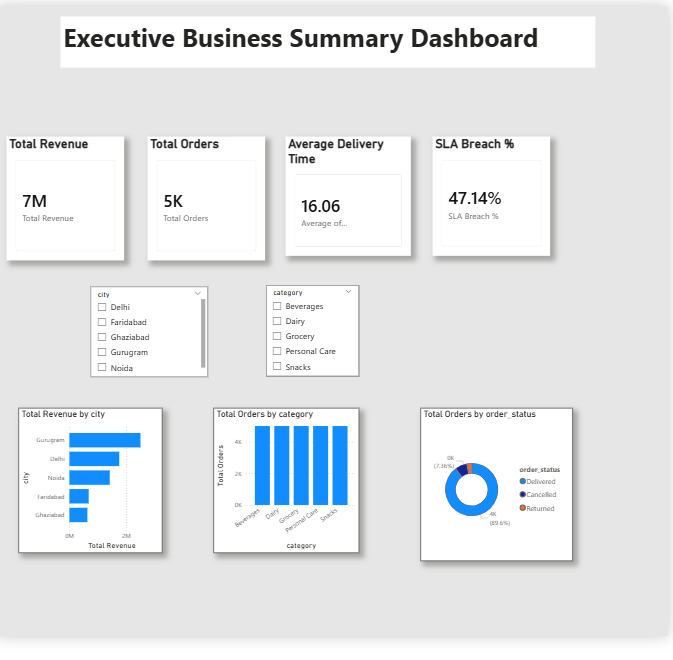

Layout of this report page (visuals, bound fields, positions):
{"tool":"powerbi","page":{"name":"Page 4","canvas":[1280,1200],"ordinal":3},"visuals":[{"type":"textbox","box":[121.4,18.6,1018.6,97.1],"z":0},{"type":"cardVisual","title":"Total Revenue","fields":{"Data":["Orders (1).Total Revenue"]},"box":[18.6,247.1,224.3,235.7],"z":1},{"type":"cardVisual","title":"Total Orders","fields":{"Data":["Orders (1).Total Orders"]},"box":[288.6,247.1,224.3,235.7],"z":2},{"type":"cardVisual","title":"Average Delivery Time","fields":{"Data":["Avg(Orders (1).actual_delivery_minutes)"]},"box":[551.4,247.1,238.6,227.1],"z":3},{"type":"cardVisual","title":"SLA Breach %","fields":{"Data":["Orders (1).SLA Breach %"]},"box":[830,247.1,224.3,227.1],"z":4},{"type":"clusteredBarChart","fields":{"Category":["Stores.city"],"Y":["Orders (1).Total Revenue"]},"box":[41.4,765.7,274.3,275.7],"z":6},{"type":"clusteredColumnChart","fields":{"Category":["Products (1).category"],"Y":["Orders (1).Total Orders"]},"box":[412.9,765.7,277.1,275.7],"z":7},{"type":"donutChart","fields":{"Category":["Orders (1).order_status"],"Y":["Orders (1).Total Orders"]},"box":[807.1,765.7,290,291.4],"z":8},{"type":"slicer","fields":{"Values":["Stores.city"]},"box":[178.6,532.9,224.3,172.9],"z":9},{"type":"slicer","fields":{"Values":["Products (1).category"]},"box":[512.9,531.4,177.1,174.3],"z":10}]}

Visuals, with their boxes on the page's 1280x1200 design canvas (x1, y1, x2, y2). These are canvas units, not pixel positions in the 673x660 screenshot, which may show the page scaled, cropped or inside an application window:
textbox: (left=121, top=19, right=1140, bottom=116)
"Total Revenue" cardVisual: (left=19, top=247, right=243, bottom=483)
"Total Orders" cardVisual: (left=289, top=247, right=513, bottom=483)
"Average Delivery Time" cardVisual: (left=551, top=247, right=790, bottom=474)
"SLA Breach %" cardVisual: (left=830, top=247, right=1054, bottom=474)
clusteredBarChart - Stores.city x Orders (1).Total Revenue: (left=41, top=766, right=316, bottom=1041)
clusteredColumnChart - Products (1).category x Orders (1).Total Orders: (left=413, top=766, right=690, bottom=1041)
donutChart - Orders (1).order_status x Orders (1).Total Orders: (left=807, top=766, right=1097, bottom=1057)
slicer - Stores.city: (left=179, top=533, right=403, bottom=706)
slicer - Products (1).category: (left=513, top=531, right=690, bottom=706)
